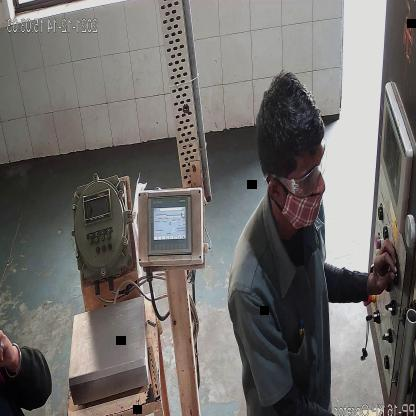goggles: (270, 149, 327, 199)
